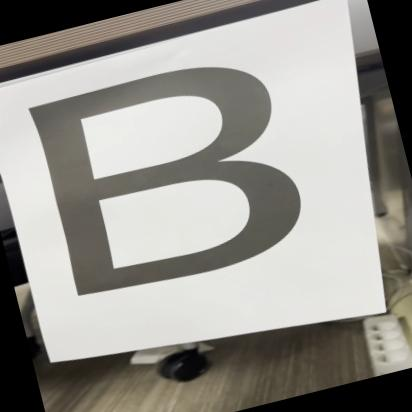seat: (7, 29, 345, 326)
